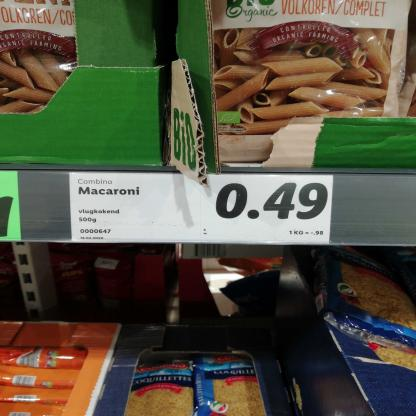prtg: (70, 173, 334, 244)
